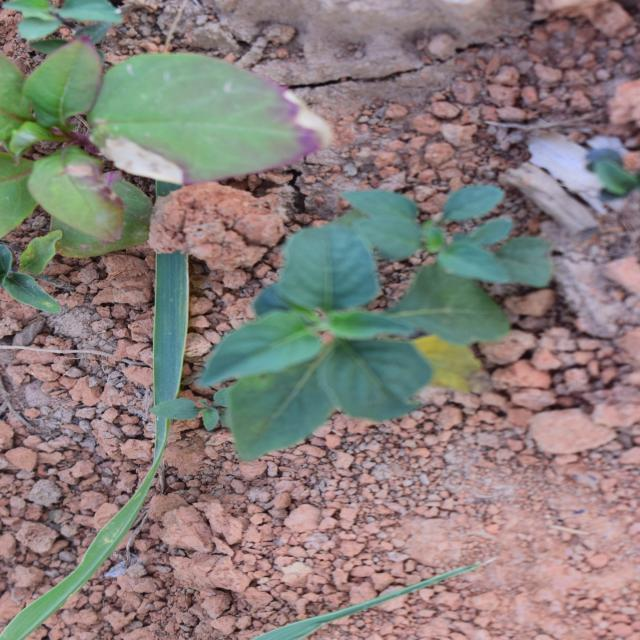Black_nightshade: (198, 217, 466, 536)
